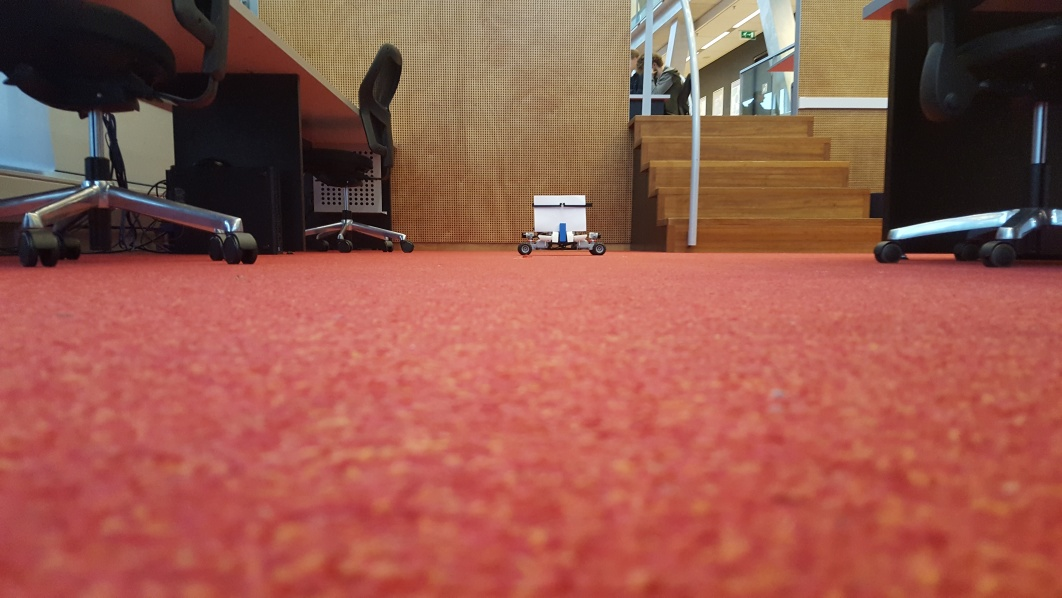car: (517, 191, 605, 256)
